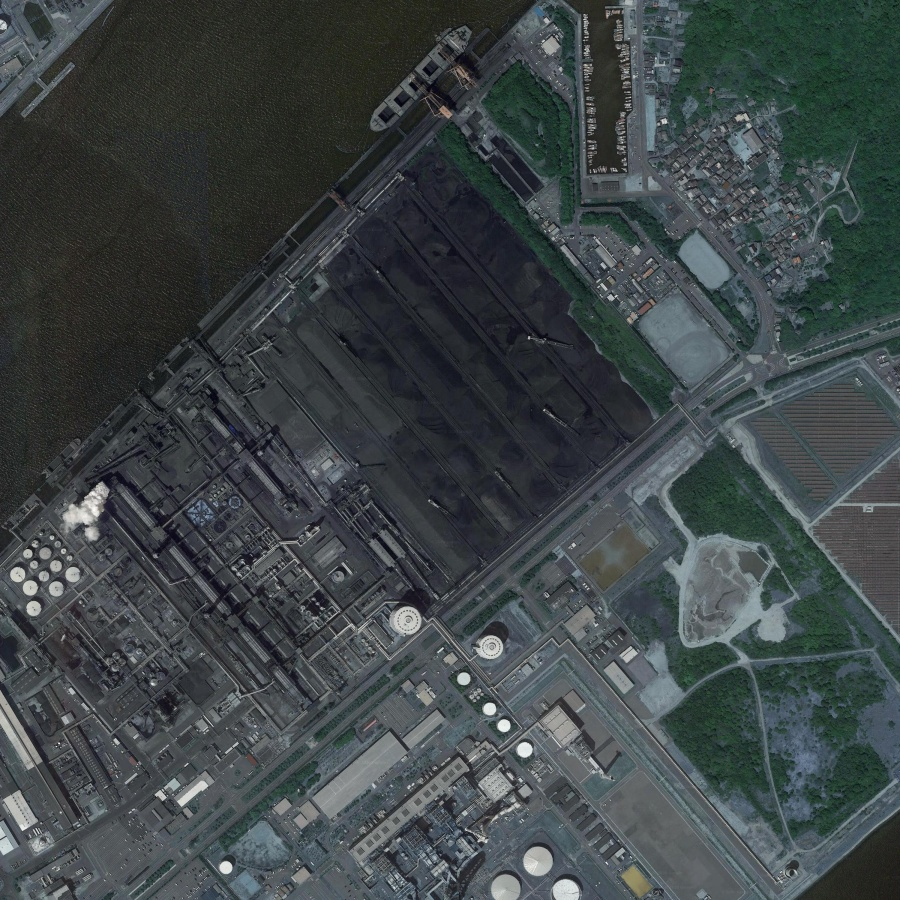PowerPlant: (280, 153, 667, 547)
